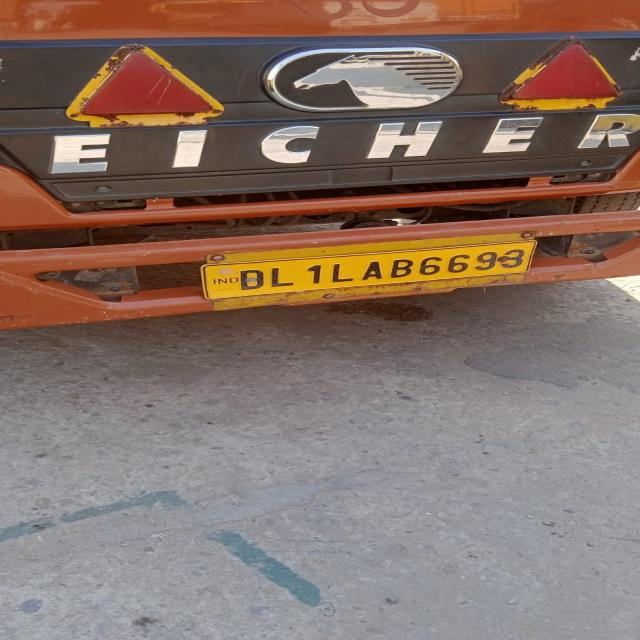License-plate: (213, 246, 564, 297)
